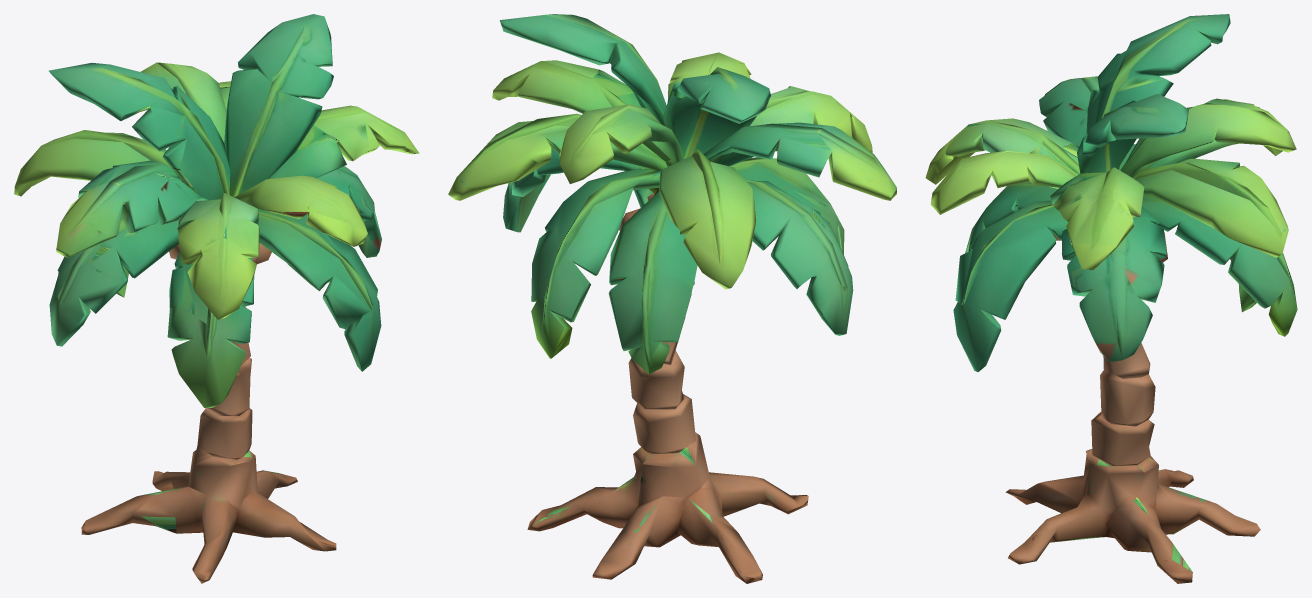
File: palm-cartoon-race-3000-webp.glb
The picture shows the model from 3 angles, left to right: view 1: azimuth 30°, elevation 25°; view 2: azimuth 150°, elevation 25°; view 3: azimuth 270°, elevation 25°; orthographic projection. The views are drawn at different scales.
Parts seen in each view (by area): view 1: model; view 2: model; view 3: model.
Part boxes in pixels (x1,y1,x2,y2): model: [14, 14, 419, 583]; model: [448, 14, 896, 583]; model: [925, 14, 1297, 583].
Bounding box in the file's own units: 1.56 × 1.9 × 1.35.
1 material, 1 textured.
